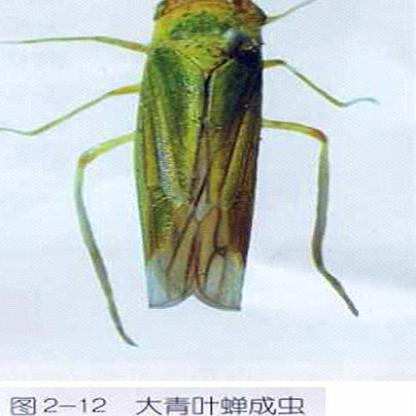Green-Leafhopper: (3, 2, 383, 338)
